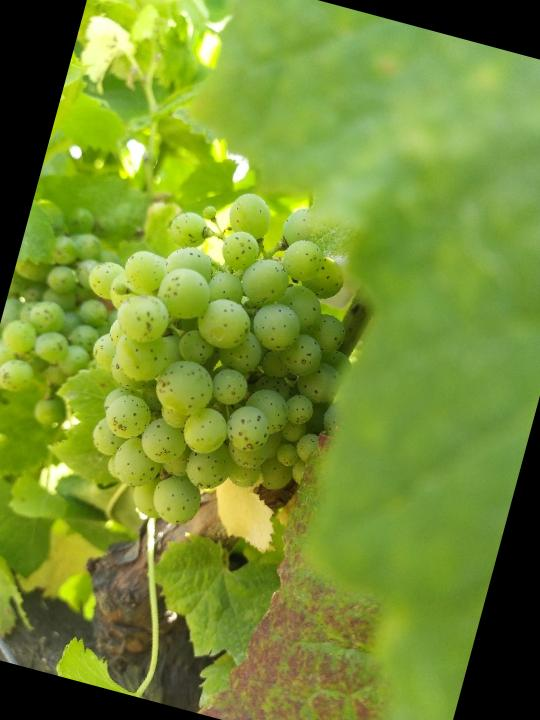grape: (32, 155, 393, 558)
